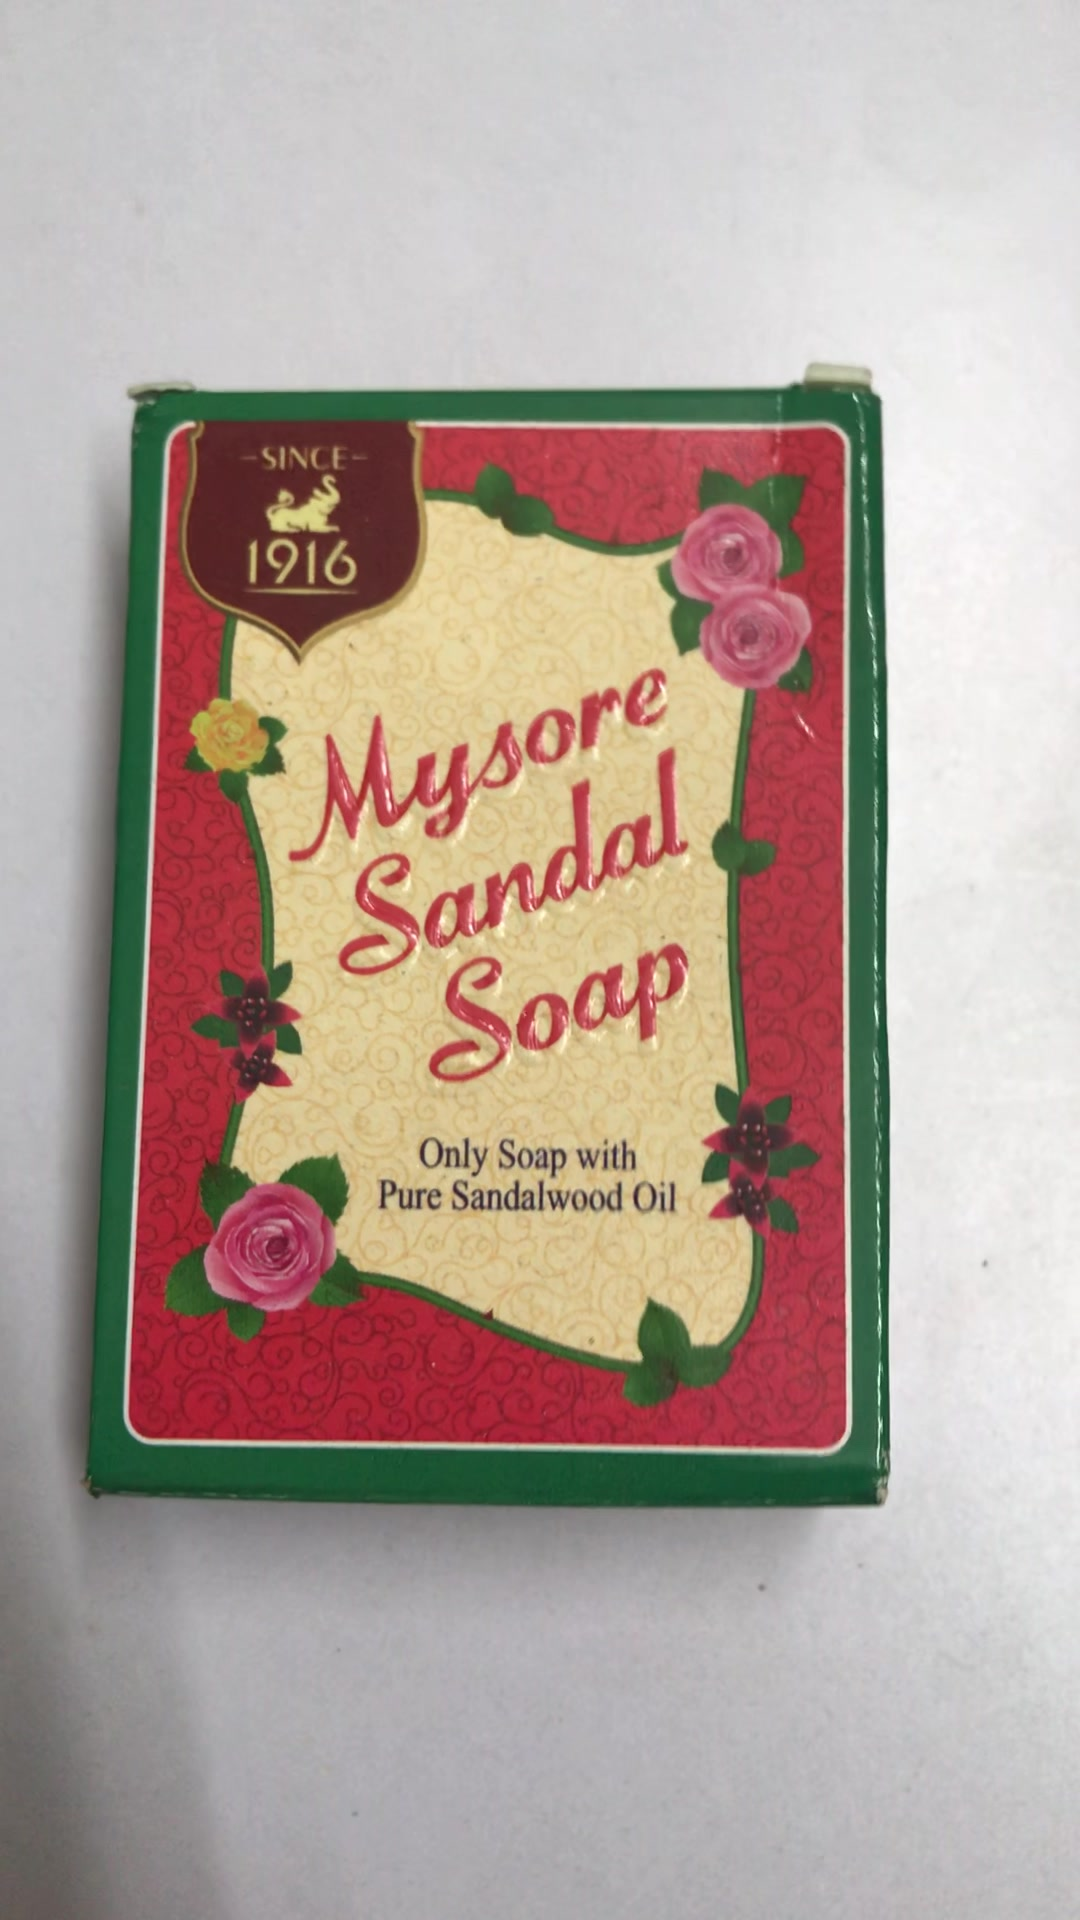mysore sandal soap: (88, 381, 882, 1498)
